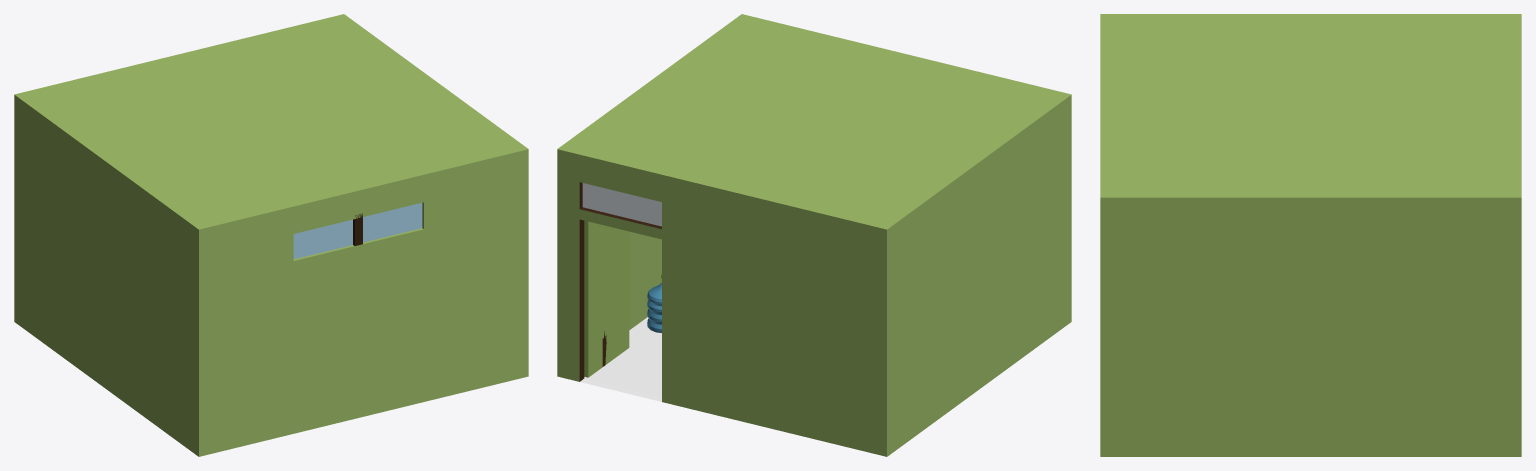
Rendered from kamar.fbx.
3 renders of one model, left to right at view 1: azimuth 30°, elevation 25°; view 2: azimuth 150°, elevation 25°; view 3: azimuth 270°, elevation 25°, orthographic. The views are drawn at different scales.
Visible parts, largest first — view 1: Cube.014; view 2: Cube.014, Cube.013, Cylinder.003; view 3: Cube.014.
Boxes of the visible parts, left/top/right/bottom form: Cube.014: left=14, top=14, right=528, bottom=456; Cube.014: left=557, top=14, right=1071, bottom=456; Cube.013: left=584, top=220, right=629, bottom=377; Cylinder.003: left=647, top=283, right=661, bottom=332; Cube.014: left=1100, top=14, right=1521, bottom=456.
Bounding box in the file's own units: 3345 × 2219 × 3243.
2 materials, 2 textured.
